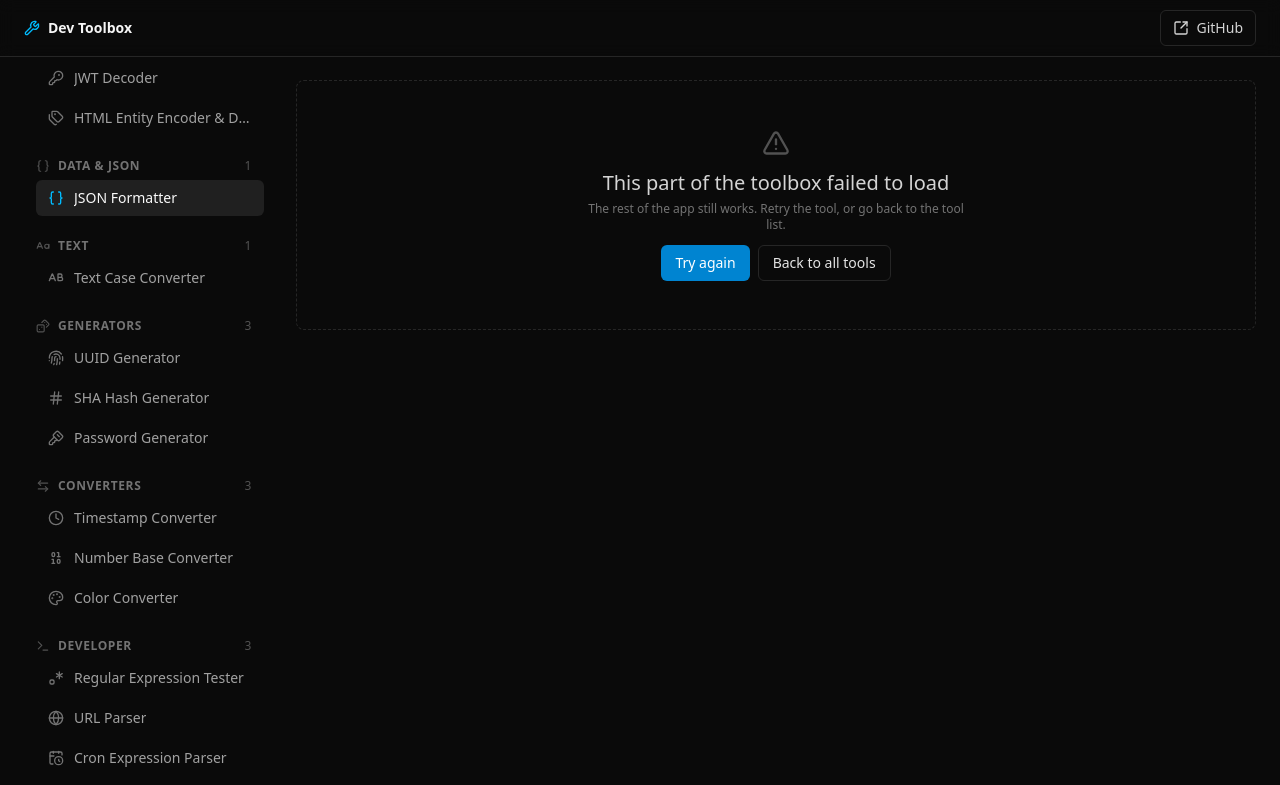
Scenario: error boundary route recovery › recovers when navigating from a failing route to a working one
The width and height of the screenshot is (1280, 785).
(page scrolled)
Expected: the heading "This part of the toolbox failed to load" is shown, [584,169,968,197]
Click the link "URL Parser". click: (97, 718)
box: [48,708,146,727]
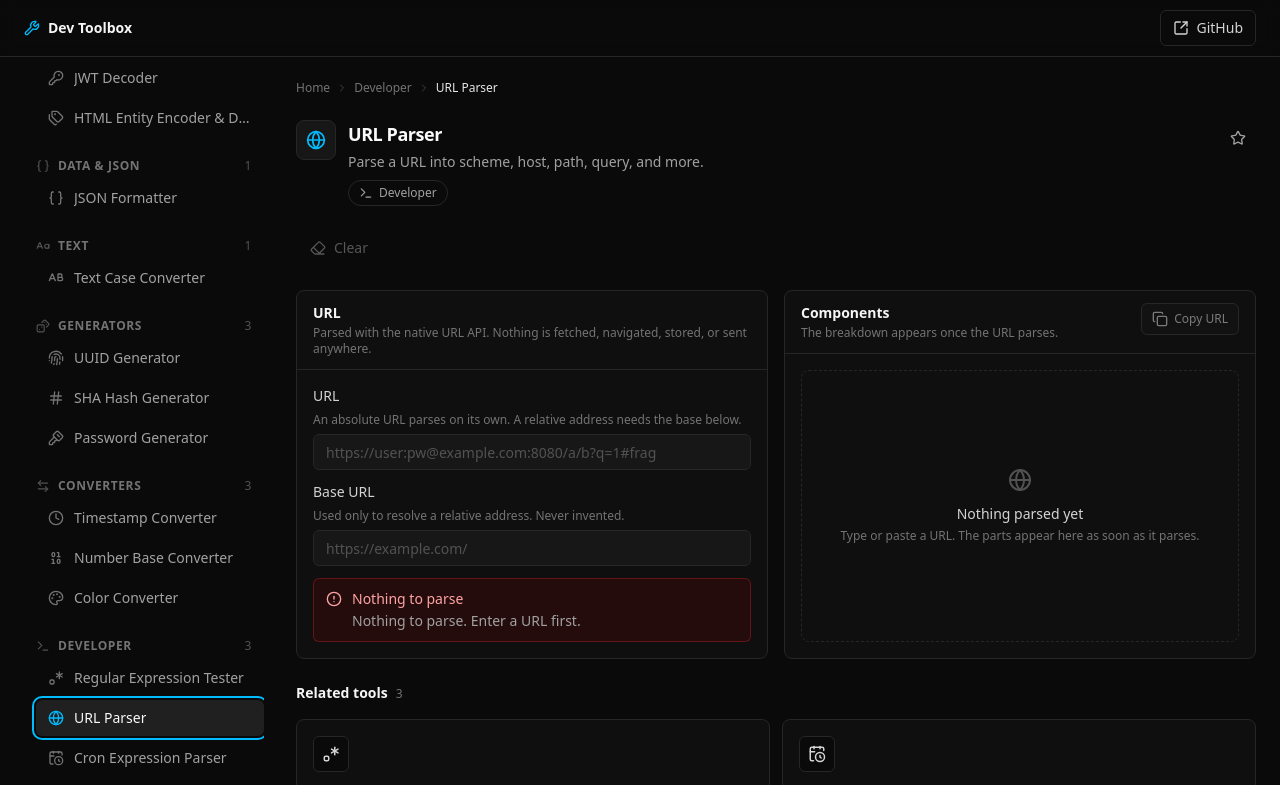
Result: the heading "URL Parser" is shown at [348,122,442,146]
Result: the heading "This part of the toolbox failed to load" is gone
